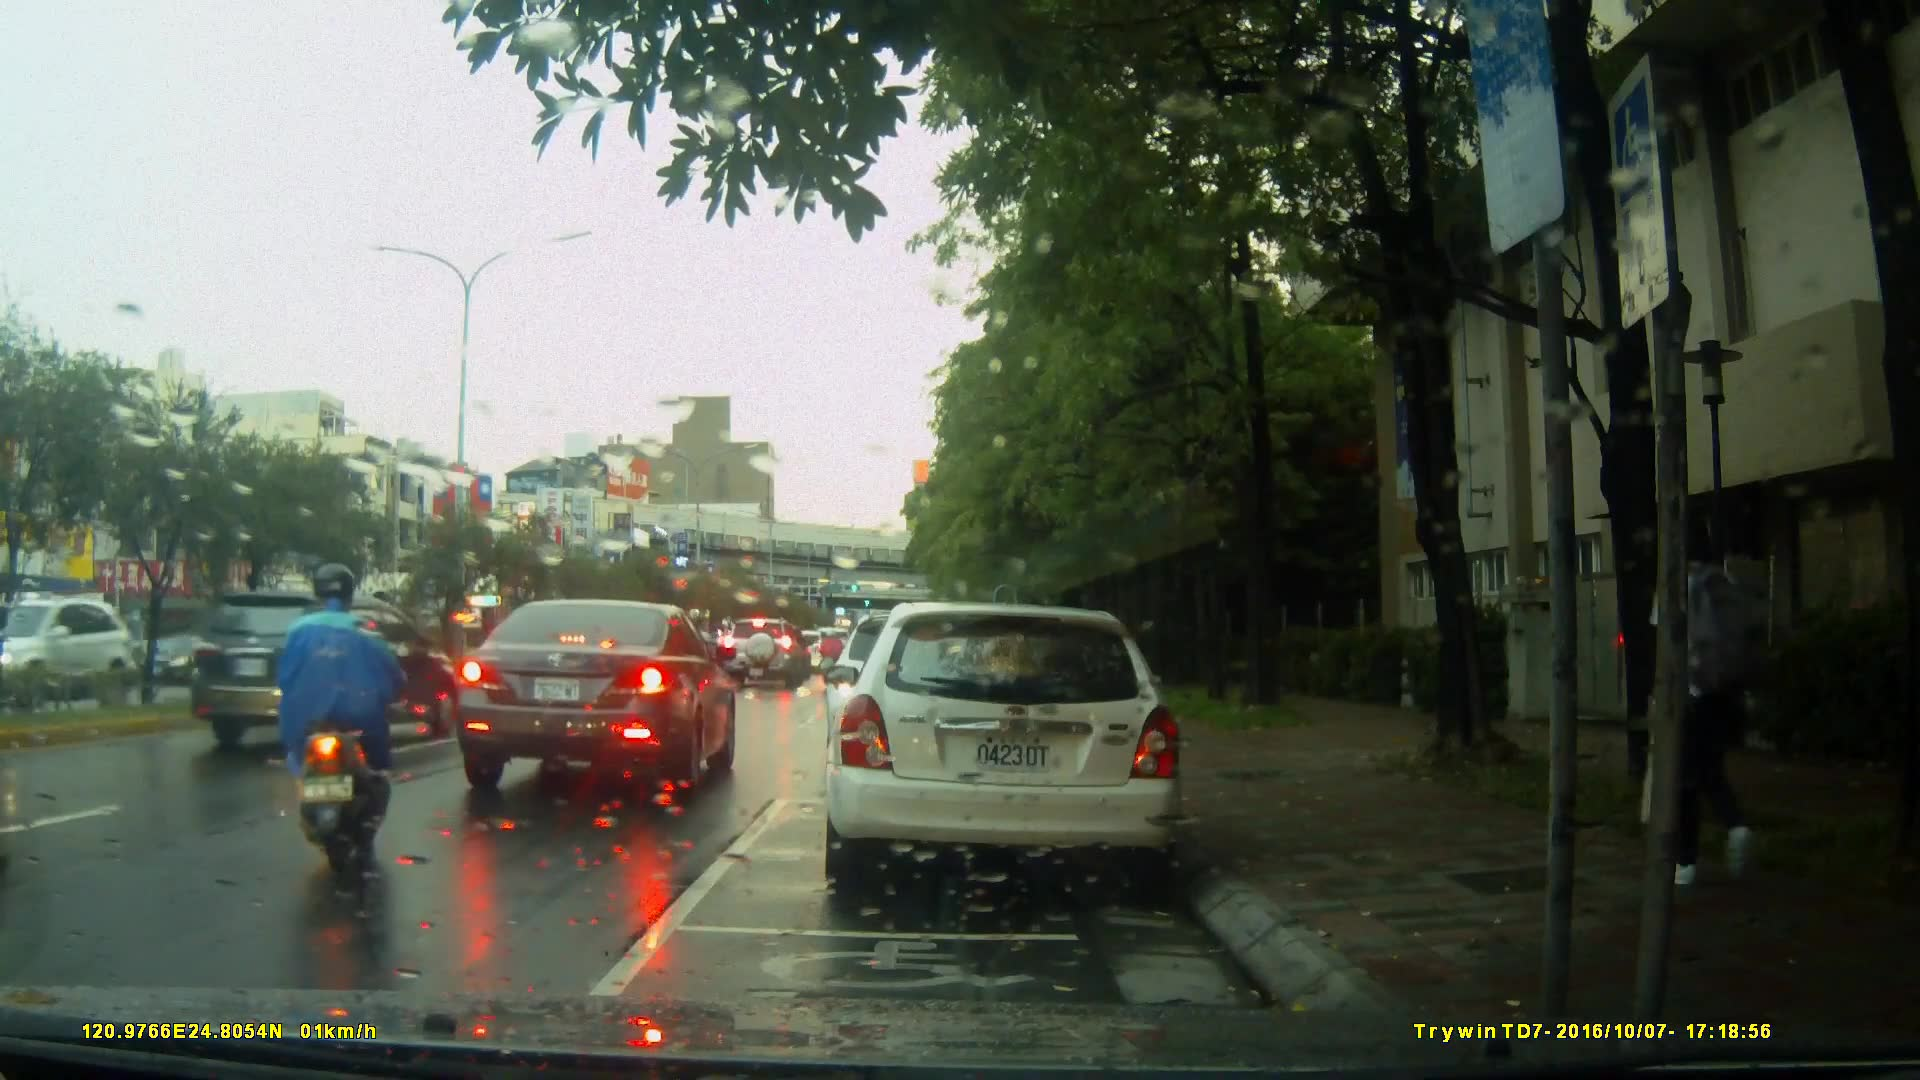pedestrian: (1621, 509, 1783, 893)
rider: (282, 560, 410, 872), (660, 606, 717, 712), (819, 625, 853, 698)
vehicle: (820, 602, 1188, 898), (456, 598, 741, 801), (189, 589, 460, 749), (6, 601, 148, 704), (726, 617, 810, 691)
